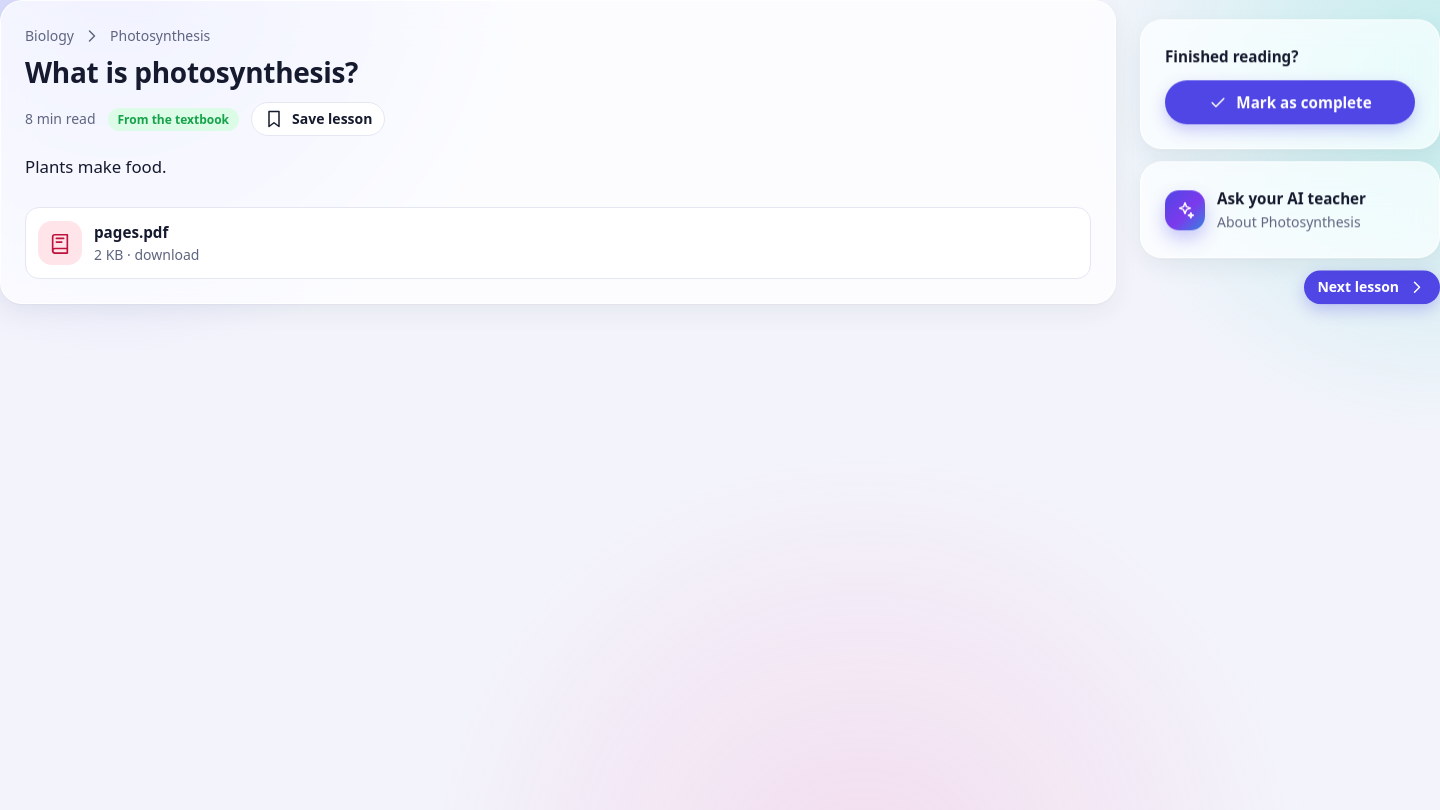
Scenario: Lesson page › marks the lesson complete and shows the XP earned
Expected: the heading "What is photosynthesis?" is shown, 25,53 -> 358,91
Expected: the text "From the textbook" is shown, 108,108 -> 239,131
Click the button "Mark as complete" at (1290,103), box 1165,81 -> 1415,125
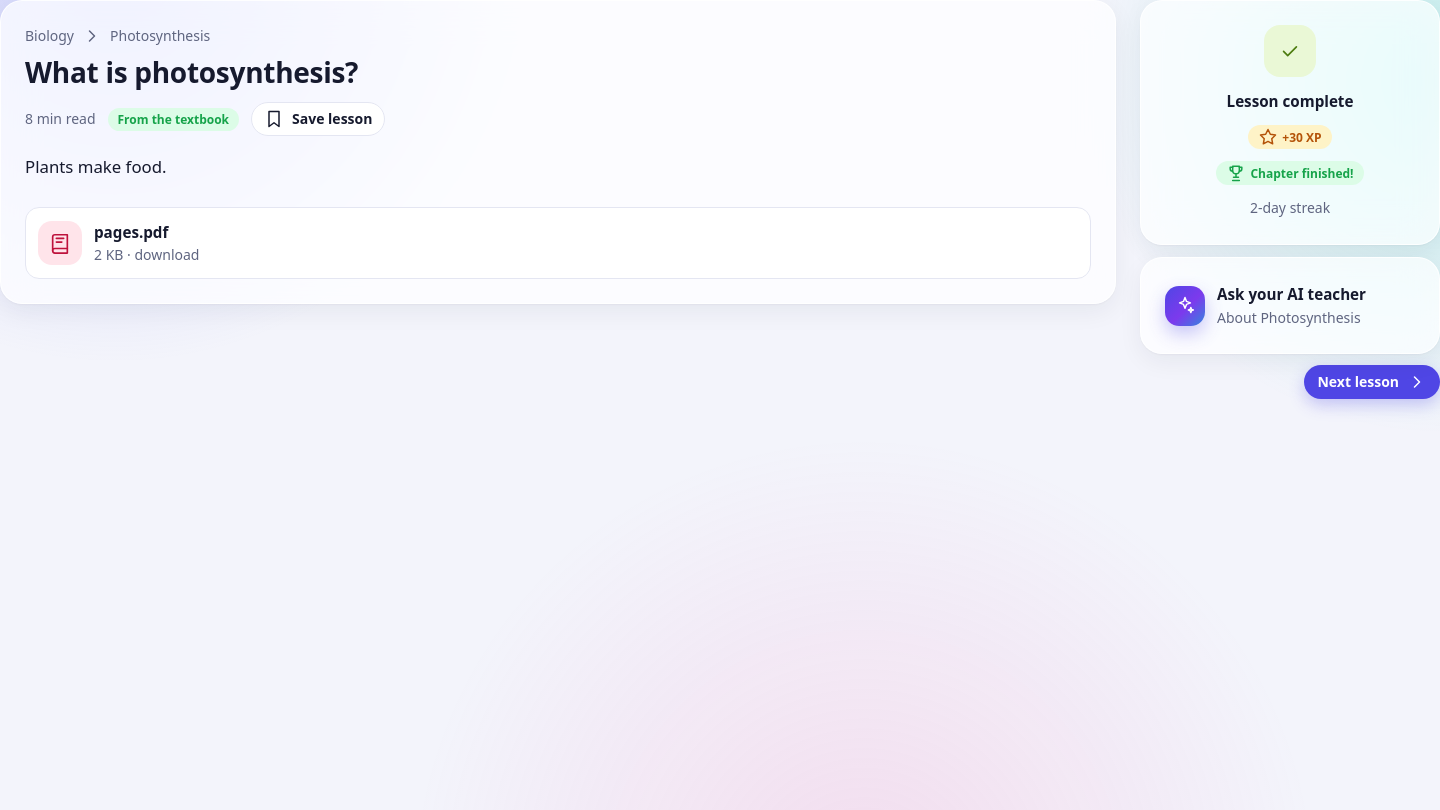
Now the text "+30 XP" is shown, box 1248,125 -> 1332,149
Now the text "Chapter finished!" is shown, box 1216,161 -> 1364,185
